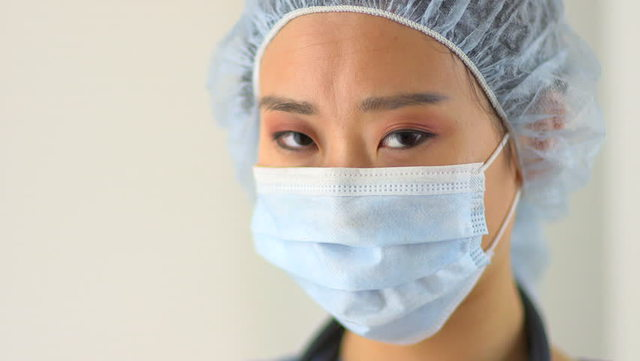mask: (243, 171, 491, 337)
